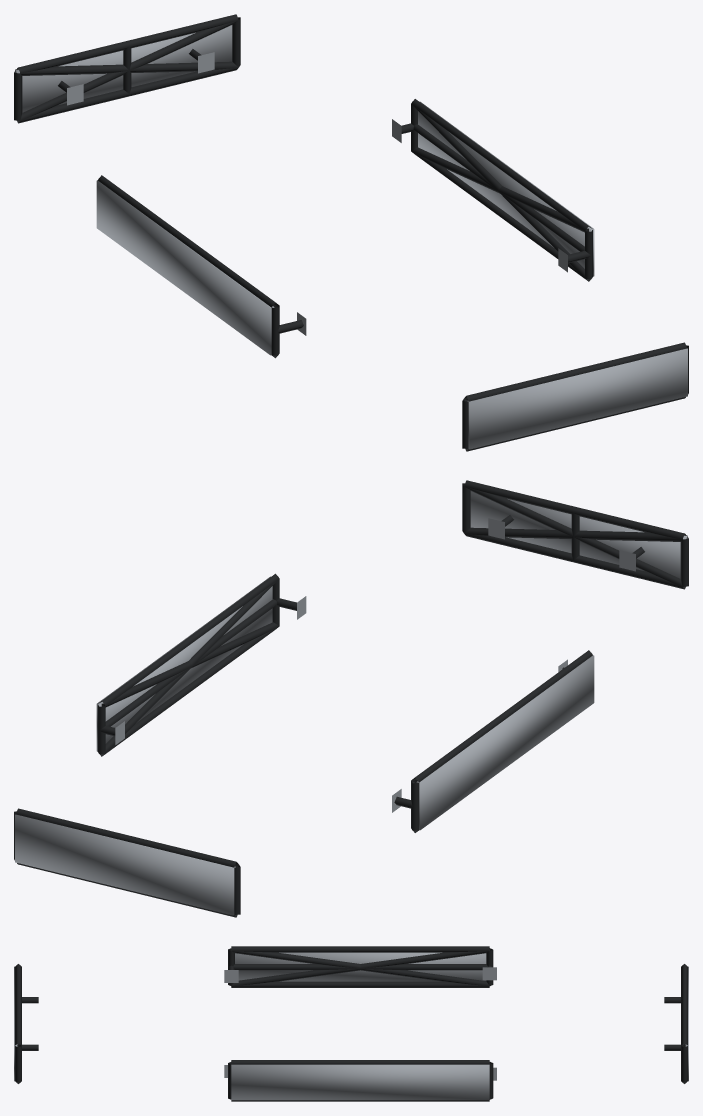
File: volnar_decano_protecao.glb
3 views of the same model, one above another, from view 1: azimuth 30°, elevation 25°; view 2: azimuth 150°, elevation 25°; view 3: azimuth 270°, elevation 25° (orthographic). The views are drawn at different scales.
Parts seen in each view (by area): view 1: Protection_front_Level3_Details, Protection_left_Level3_Details, Protection_rear_Level1_Details, Protection_rear_Level3_Details, Protection_right_Level1_Details, Protection_right_Level2_Details, Protection_right_Level3_Details, Protection_rear_Level2_Details, Protection_front_Level1_Details, Protection_left_Level1_Details; view 2: Protection_rear_Level3_Details, Protection_left_Level3_Details, Protection_front_Level1_Details, Protection_front_Level3_Details, Protection_right_Level1_Details, Protection_right_Level2_Details, Protection_right_Level3_Details, Protection_front_Level2_Details, Protection_rear_Level1_Details, Protection_left_Level1_Details; view 3: Protection_right_Level3_Details, Protection_left_Level2_Details, Protection_left_Level1_Details, Protection_left_Level3_Details, Protection_right_Level1_Details, Protection_rear_Level1_Details, Protection_front_Level1_Details.
Part boxes in pixels (x1,y1,x2,y2): Protection_front_Level3_Details: (467, 348, 687, 449); Protection_left_Level3_Details: (96, 180, 274, 355); Protection_rear_Level1_Details: (14, 14, 240, 123); Protection_rear_Level3_Details: (15, 25, 232, 112); Protection_right_Level1_Details: (392, 99, 592, 281); Protection_right_Level2_Details: (411, 105, 592, 281); Protection_right_Level3_Details: (418, 101, 594, 276); Protection_rear_Level2_Details: (16, 20, 238, 122); Protection_front_Level1_Details: (462, 342, 688, 451); Protection_left_Level1_Details: (98, 175, 306, 358); Protection_rear_Level3_Details: (15, 814, 235, 915); Protection_left_Level3_Details: (416, 655, 594, 830); Protection_front_Level1_Details: (462, 480, 688, 589); Protection_front_Level3_Details: (470, 491, 687, 578); Protection_right_Level1_Details: (97, 573, 306, 756); Protection_right_Level2_Details: (98, 580, 279, 756); Protection_right_Level3_Details: (96, 576, 272, 751); Protection_front_Level2_Details: (464, 486, 686, 588); Protection_rear_Level1_Details: (14, 808, 240, 917); Protection_left_Level1_Details: (392, 650, 592, 832); Protection_right_Level3_Details: (231, 1064, 489, 1100); Protection_left_Level2_Details: (231, 949, 489, 986); Protection_left_Level1_Details: (224, 946, 496, 987); Protection_left_Level3_Details: (235, 952, 486, 981); Protection_right_Level1_Details: (224, 1060, 496, 1101); Protection_rear_Level1_Details: (664, 964, 687, 1083); Protection_front_Level1_Details: (15, 964, 38, 1083).
Bounding box in the file's own units: 2.14 × 0.354 × 5.2.
1 material, 1 textured.
